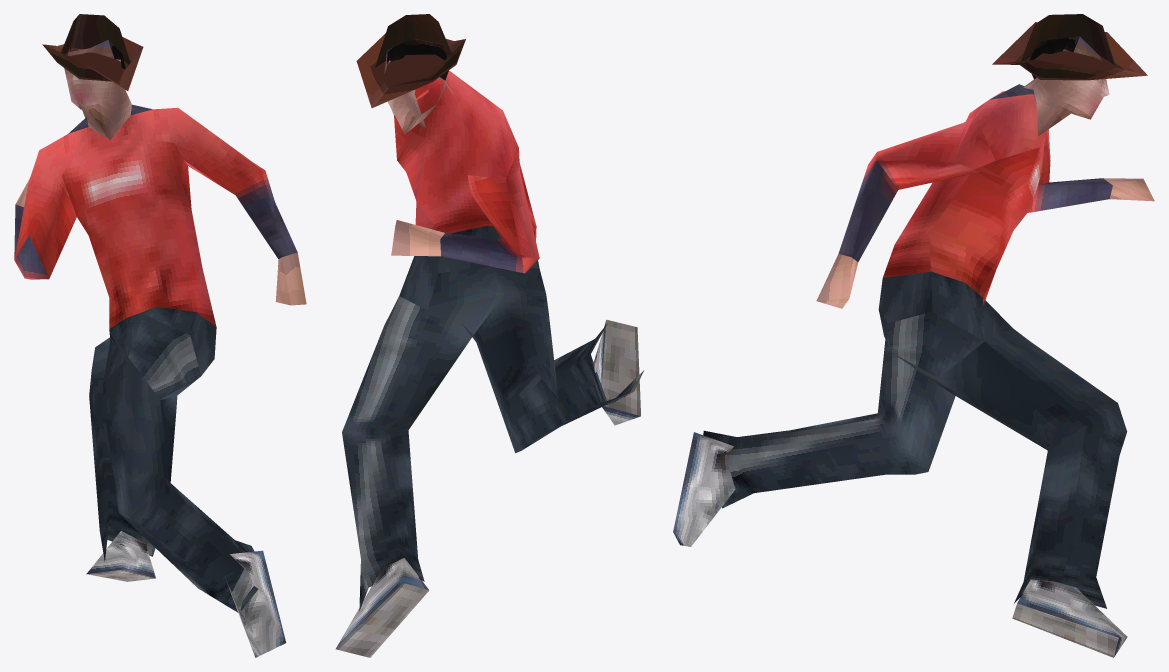
The model's file is ps2_save-icons_freerunning.glb.
3 renders of one model, left to right at view 1: azimuth 30°, elevation 25°; view 2: azimuth 150°, elevation 25°; view 3: azimuth 270°, elevation 25°, orthographic. The views are drawn at different scales.
Parts seen in each view (by area): view 1: memcard.ico; view 2: memcard.ico; view 3: memcard.ico.
Part boxes in pixels (<box>): memcard.ico: <box>14,14,306,657</box>; memcard.ico: <box>335,14,643,657</box>; memcard.ico: <box>673,14,1154,657</box>.
Bounding box in the file's own units: 1.02 × 2.89 × 2.05.
Materials: 1 (1 with a texture image).
